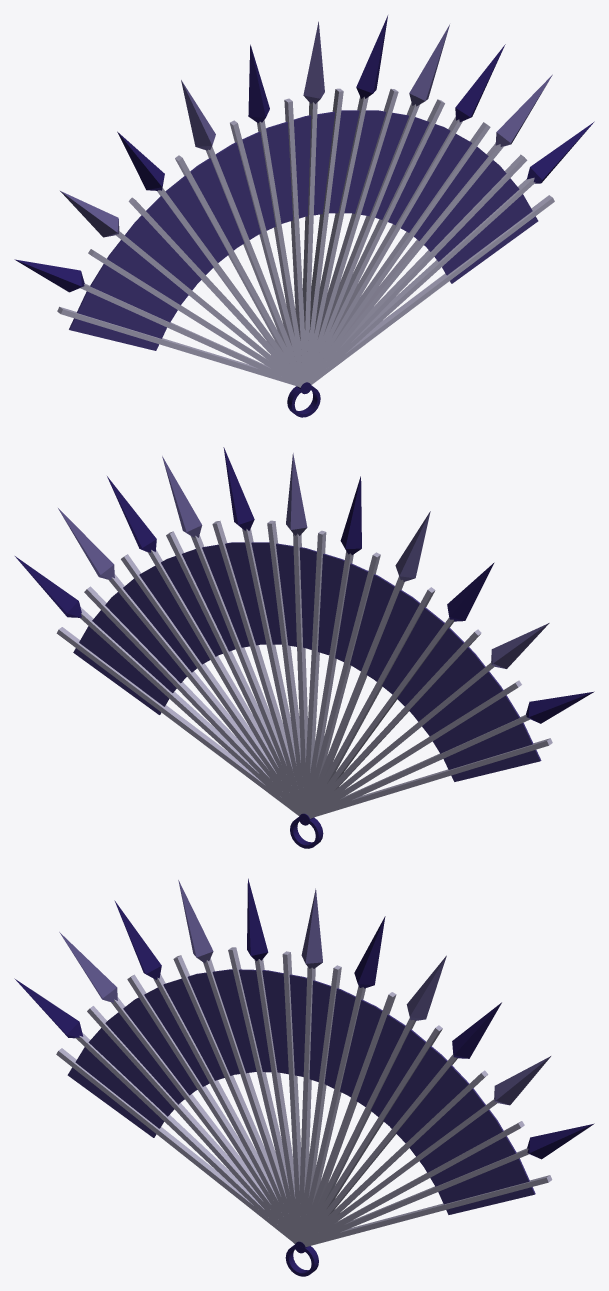
The model's file is VEER .fbx.
3 views of the same model, one above another, from view 1: azimuth 30°, elevation 25°; view 2: azimuth 150°, elevation 25°; view 3: azimuth 330°, elevation 25° (orthographic).
Parts seen in each view (by area): view 1: polySurface302; view 2: polySurface302; view 3: polySurface302.
Boxes of the visible parts, x1,y1,x2,y2 form: polySurface302: (14, 15, 594, 417); polySurface302: (15, 447, 594, 848); polySurface302: (14, 878, 594, 1276).
Size of the model in its own units: 241 by 155 by 10.75.
